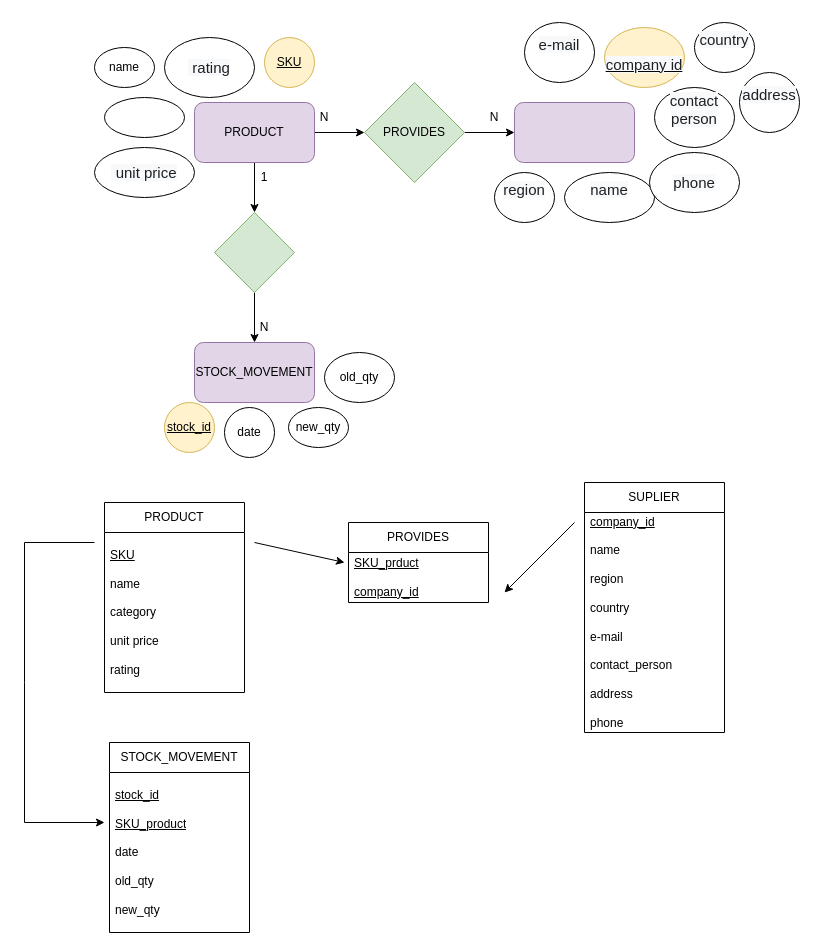
The diagram is 817 pixels wide and 950 high, and some of its shapes have lost their labels. Here are the shapes that lost their labels. From the top down, the centre of each, then its label:
At point (144, 117): "category".
At point (574, 132): "SUPPLIER".
At point (254, 252): "REGISTER".
